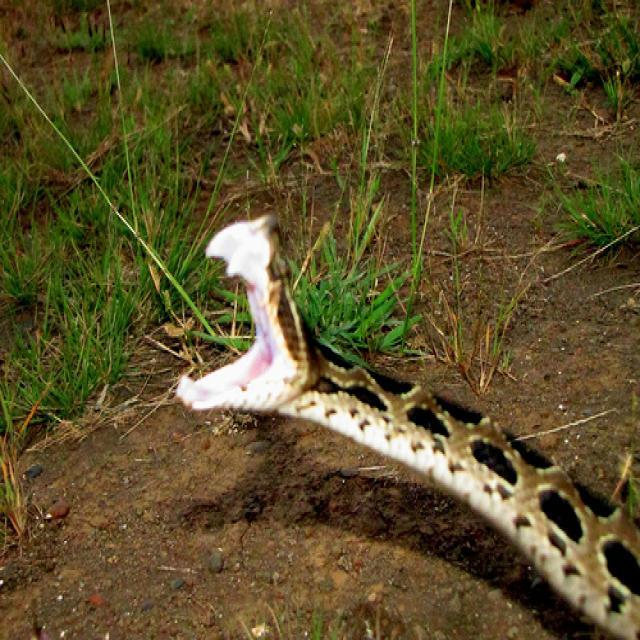Snake: (174, 208, 638, 637)
